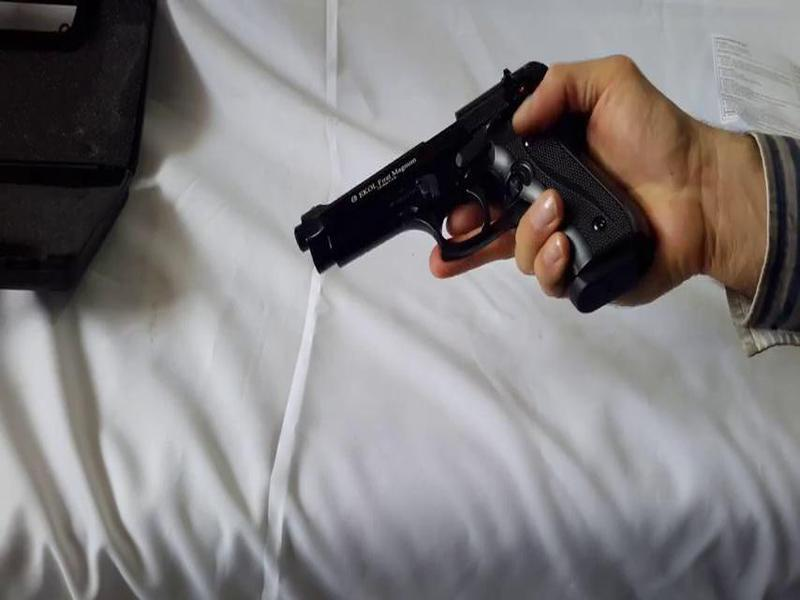Pistola: (257, 58, 652, 307)
